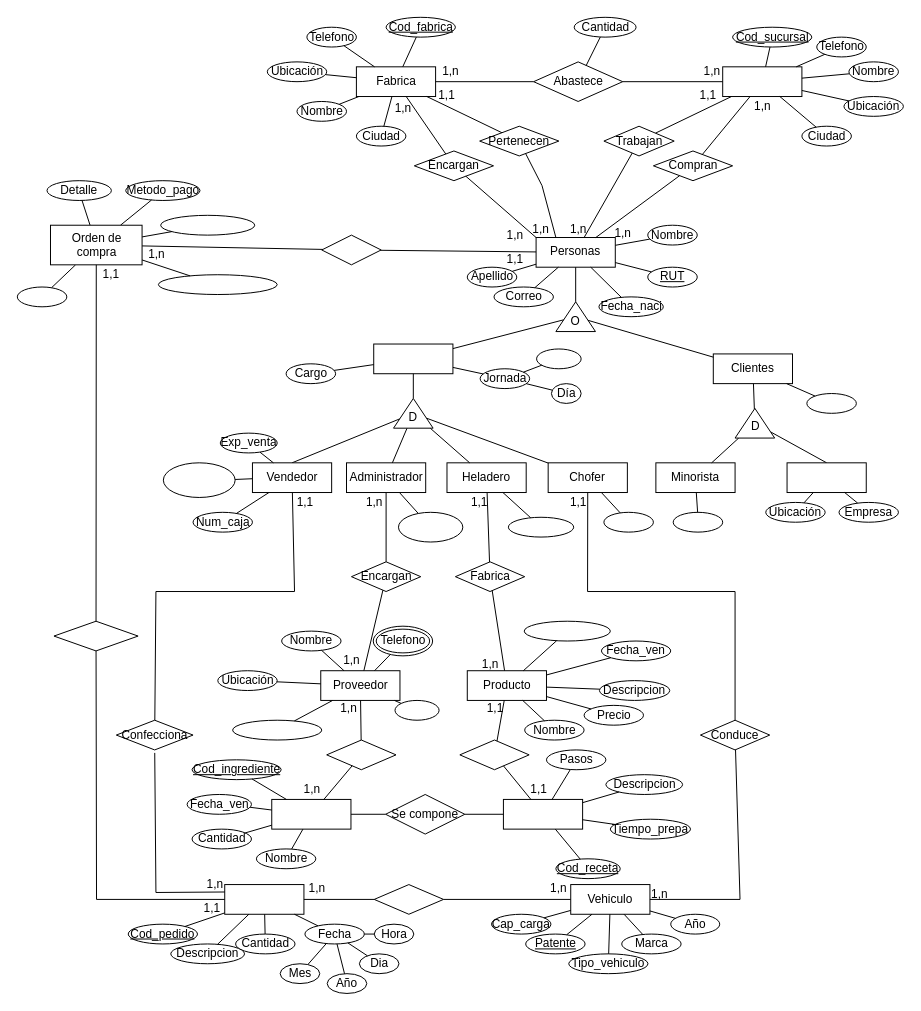
This 921x1011 diagram has some shape labels left out. Each missing label, with the centre of its shape:
Certificado: (540,526)
Cod_producto: (566,630)
Cod_proveedor: (277,729)
Cod_transacción: (207,224)
Contiene: (494,754)
Contraseña caja: (198,479)
Email: (416,709)
Empleado: (413,358)
Genera: (95,635)
Historial: (831,403)
historico: (697,521)
Horas: (558,358)
Ingrediente: (311,813)
Licencia: (628,521)
Mayorista: (826,477)
Monto: (41,296)
Nivel jerarquico: (430,526)
Paga: (351,249)
Pedido: (264,899)
Provee: (361,754)
Receta: (542,813)
Reparte: (408,899)
Sucursal: (762,81)
Tipo_comprobante: (217,284)
